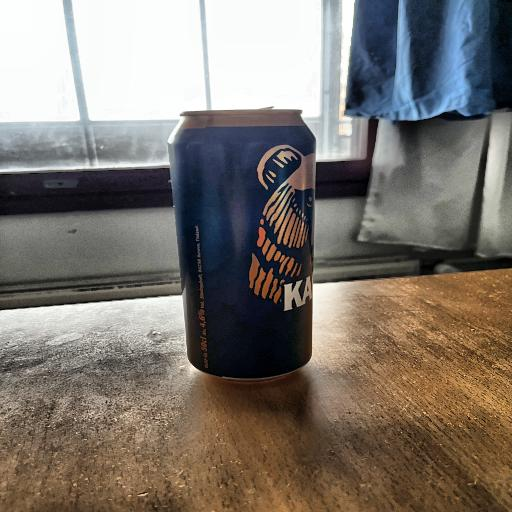karhu: (159, 88, 347, 395)
